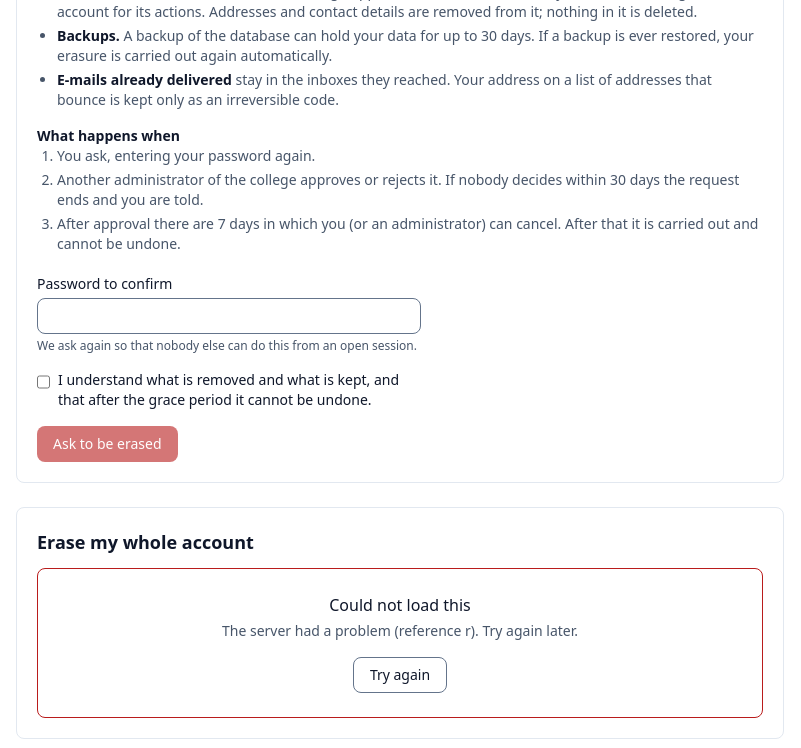
Test: Erase my whole account (member) › an open request says so and offers no second form; an error state offers a retry
The image size is (801, 748).
(page scrolled)
What coordinates should you click on to do the following:
click the button "Try again"
I would click on:
 (400, 675)
Its box is left=353, top=657, right=447, bottom=693.
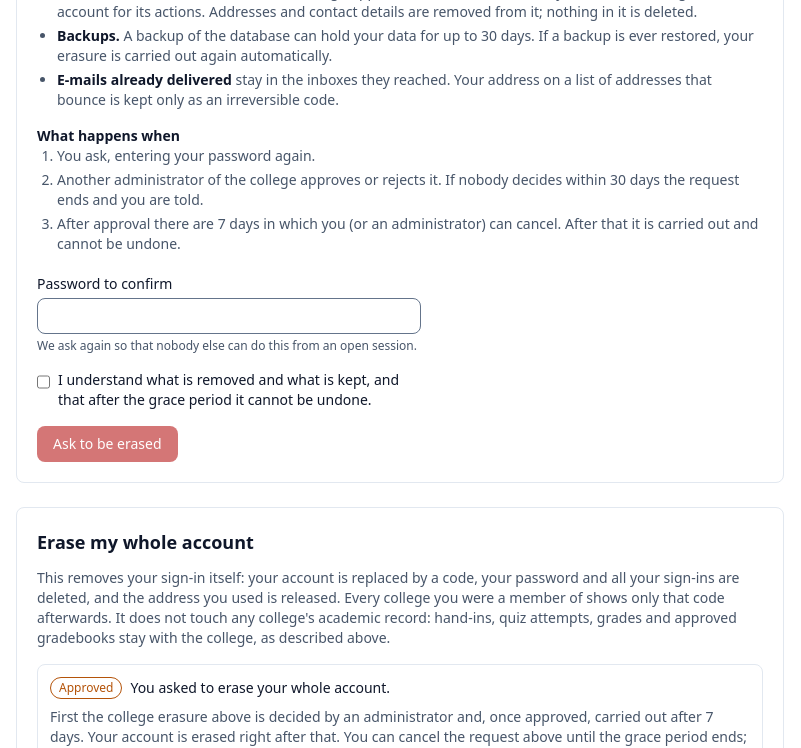
expect the text "Approved" is shown: met, box left=50, top=677, right=122, bottom=699
